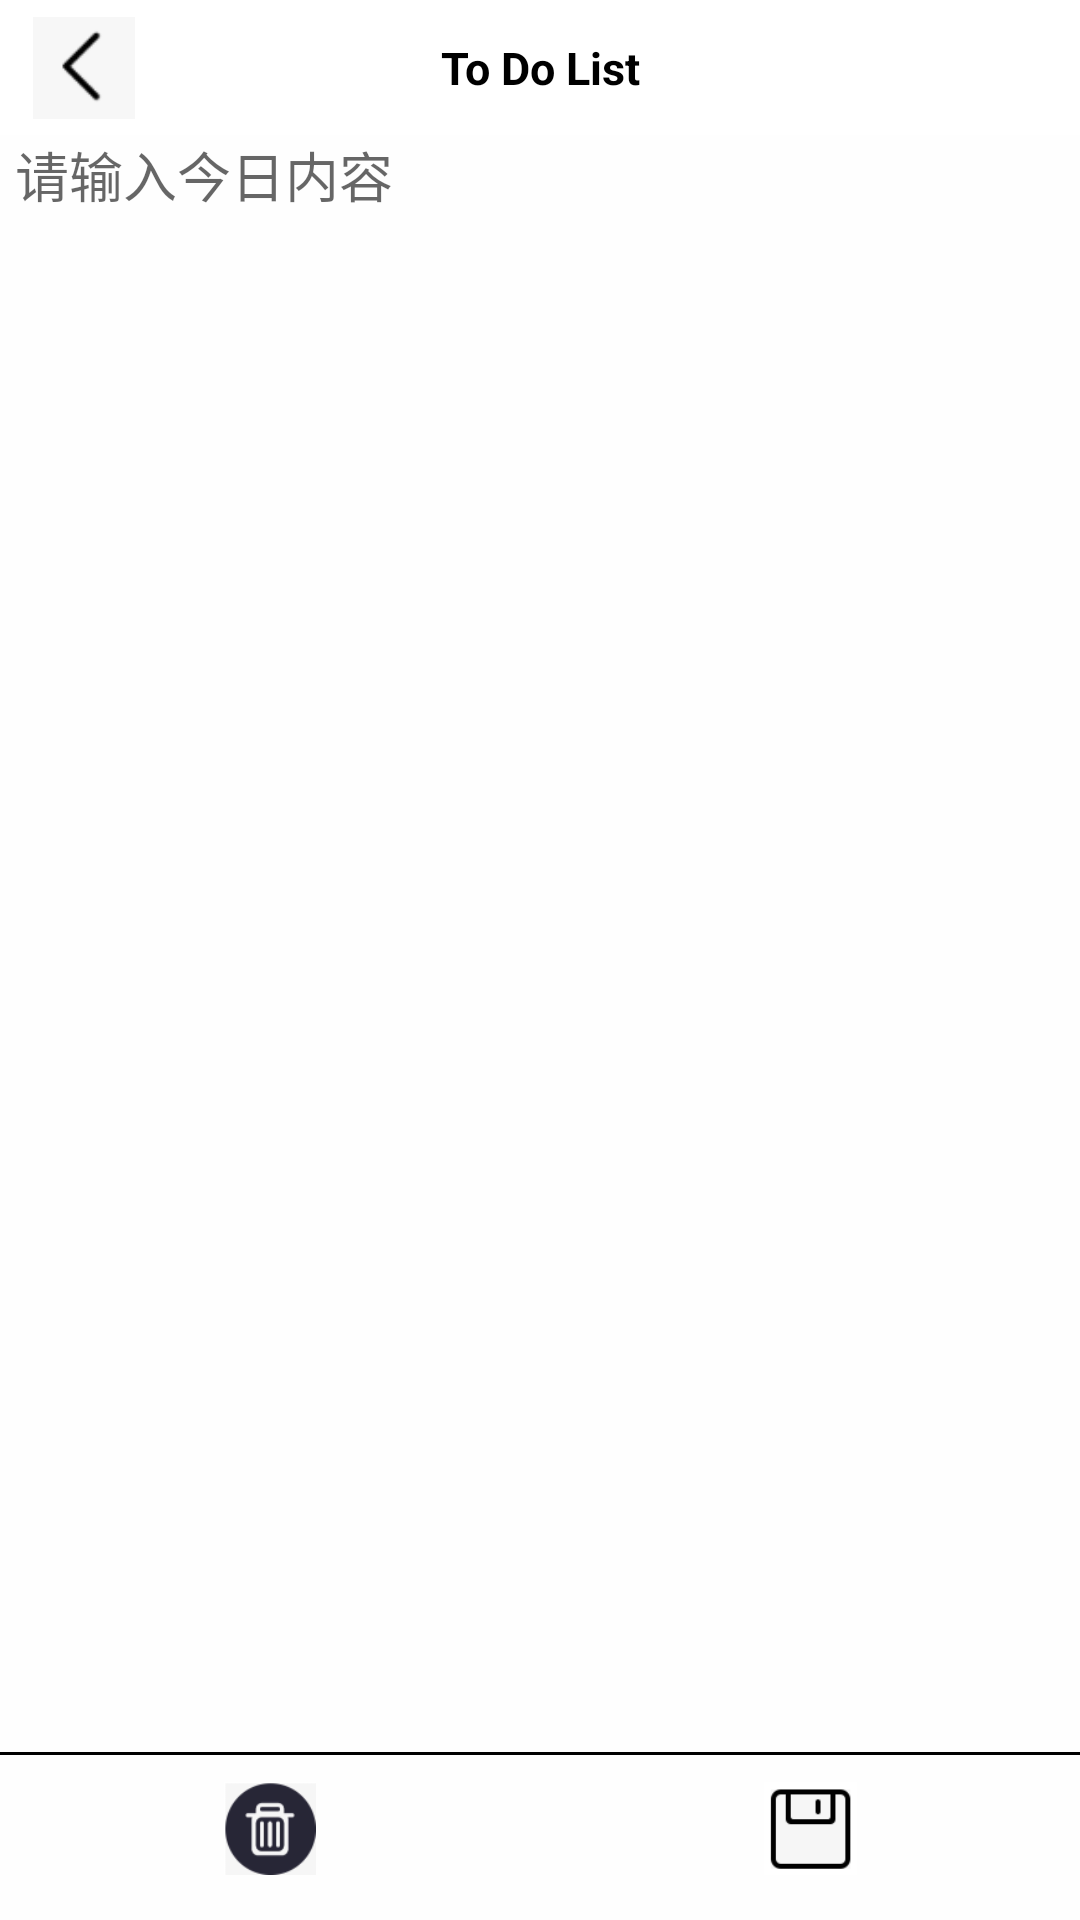

Named icons in this screenshot (1080w x 1920h) and their centers, (x,y):
back: (81,66)
delete: (270,1829)
save: (810,1829)
